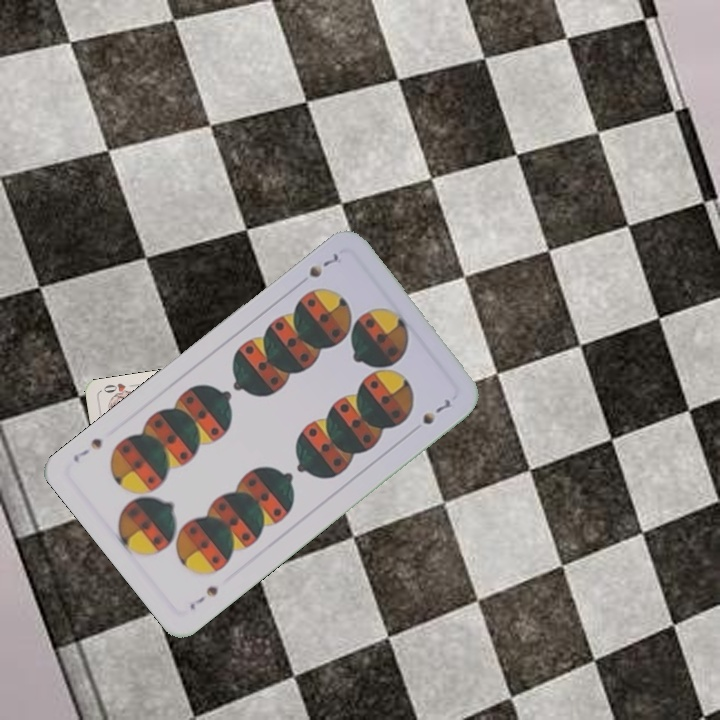S7: (305, 249, 342, 281), (185, 582, 221, 612)
